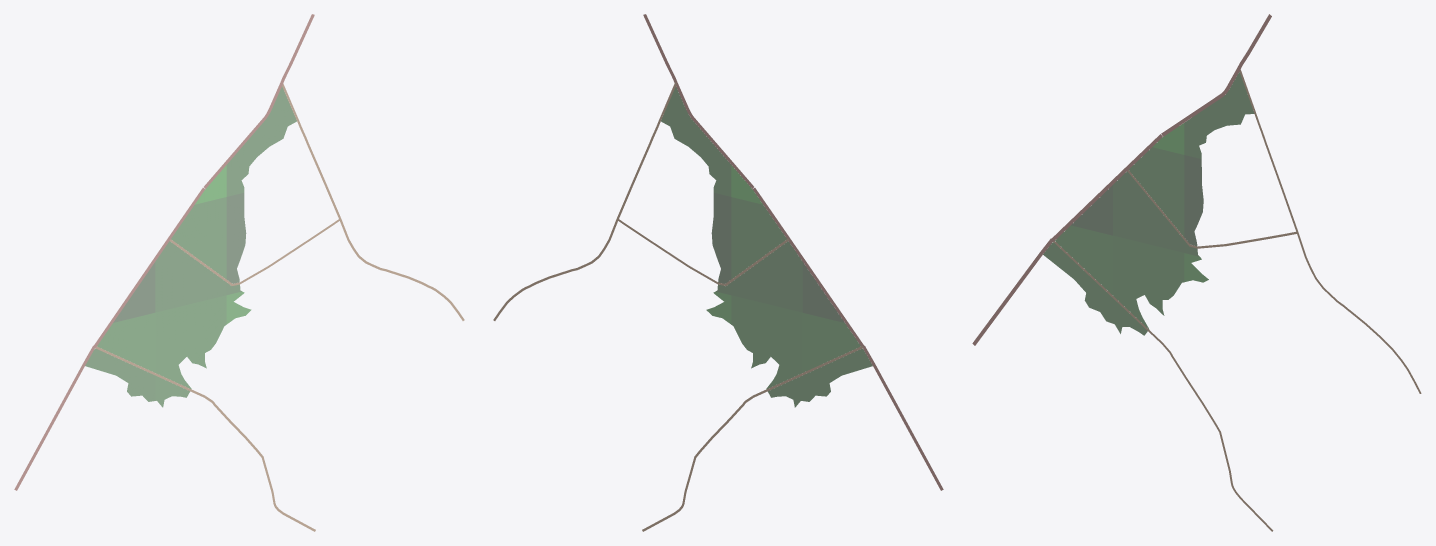
File: site.gltf
3 views of the same model, side by side, from view 1: azimuth 30°, elevation 25°; view 2: azimuth 150°, elevation 25°; view 3: azimuth 330°, elevation 25° (orthographic).
Visible parts, largest first — view 1: obj_tri; view 2: obj_tri; view 3: obj_tri.
Part boxes in pixels (<box>): obj_tri: <box>14,14,464,531</box>; obj_tri: <box>493,14,943,531</box>; obj_tri: <box>972,14,1421,531</box>.
Size of the model in its own units: 2146 by 2361 by 0.2.
